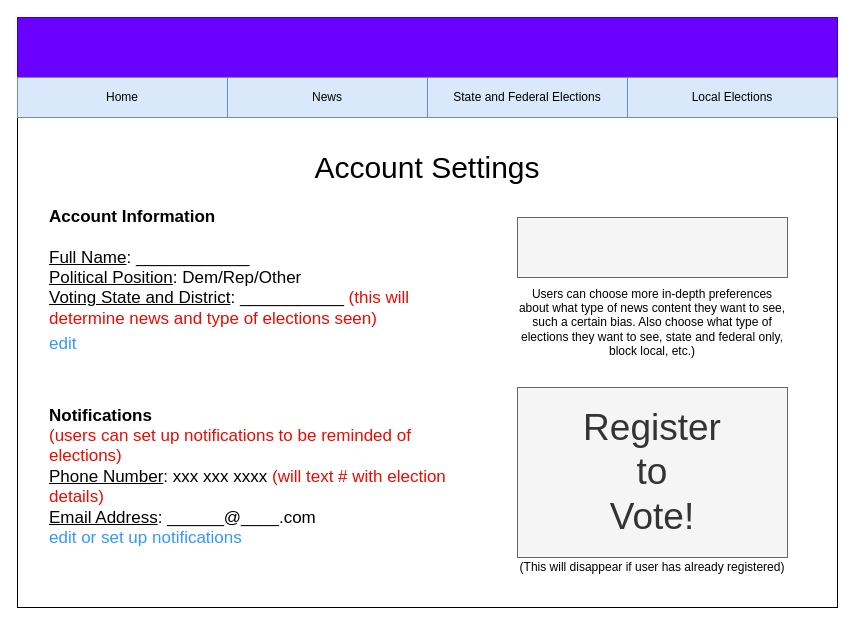
Some shapes in this 855 by 625 pixel diagram are drawn without their labels. The shapes that lost their labels are listed below. From the top down, each one's centre as x and y in pixels, then its label:
At point (427, 47): "Capgemini Elections Engagement App (Detailed Design)".
At point (652, 247): "Click here to filter the type of news and elections that you see.".
